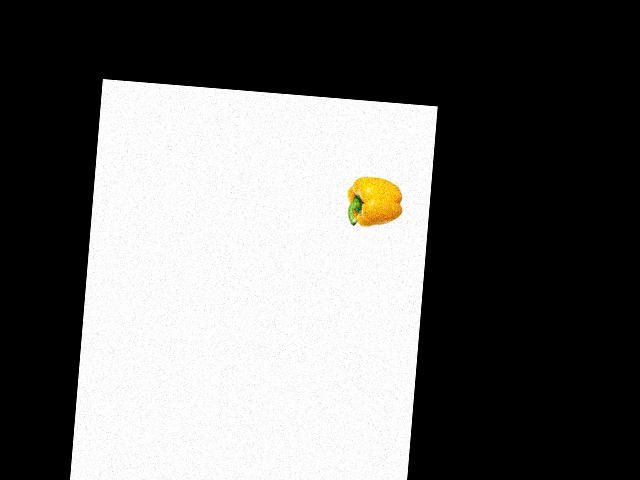bell_pepper: (339, 170, 407, 235)
